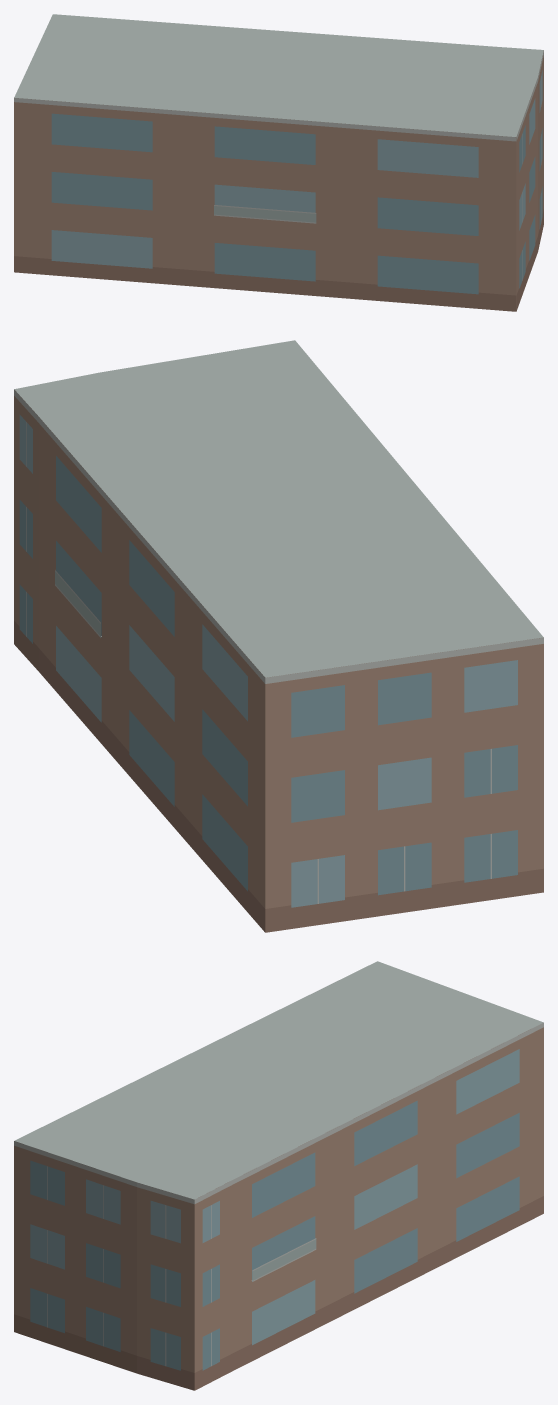
Rendered from survey-upis-32899158.glb.
3 views of the same model, one above another, from view 1: azimuth 30°, elevation 25°; view 2: azimuth 150°, elevation 25°; view 3: azimuth 270°, elevation 25° (orthographic). The views are drawn at different scales.
Visible parts, largest first — view 1: survey-upis-32899158.tmp; view 2: survey-upis-32899158.tmp; view 3: survey-upis-32899158.tmp.
Part boxes in pixels (left/top/right/bottom): survey-upis-32899158.tmp: left=14, top=14, right=543, bottom=311; survey-upis-32899158.tmp: left=14, top=340, right=543, bottom=932; survey-upis-32899158.tmp: left=14, top=961, right=543, bottom=1390.
Size of the model in its own units: 26.22 by 9.8 by 24.62.
